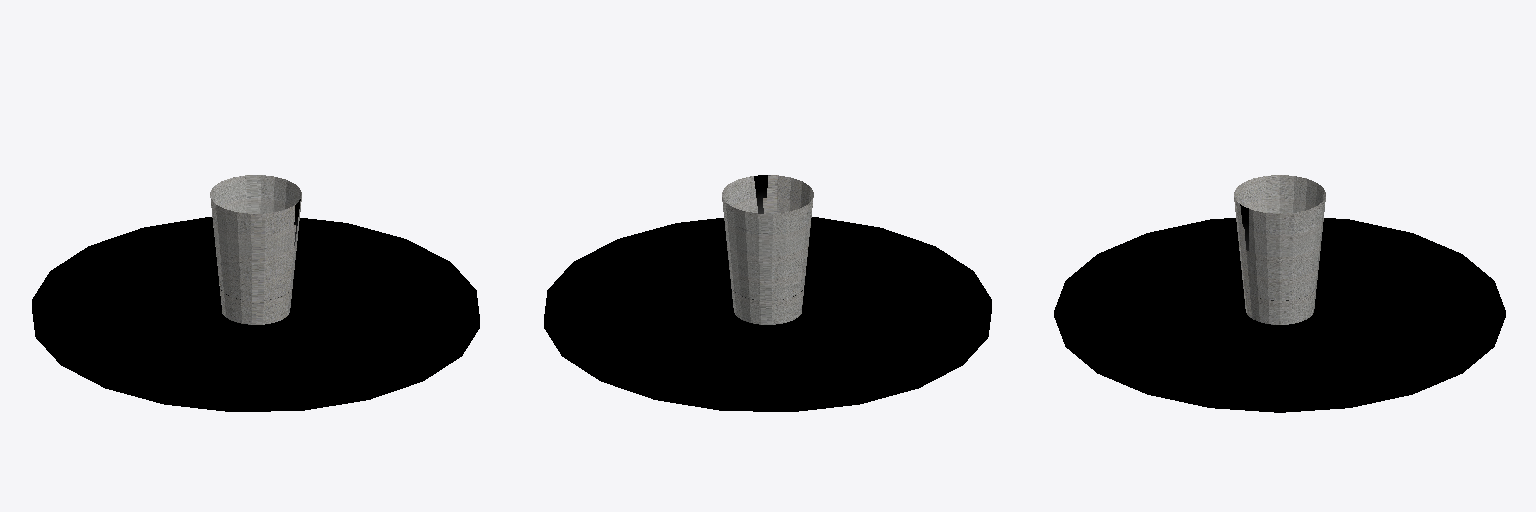
3 renders of one model, left to right at view 1: azimuth 30°, elevation 25°; view 2: azimuth 150°, elevation 25°; view 3: azimuth 270°, elevation 25°, orthographic.
Parts seen in each view (by area): view 1: pasted__pCylinder2 group; view 2: pasted__pCylinder2 group; view 3: pasted__pCylinder2 group.
Part boxes in pixels (x1,y1,x2,y2): pasted__pCylinder2 group: (32,175,479,411); pasted__pCylinder2 group: (544,175,991,411); pasted__pCylinder2 group: (1054,175,1505,412).
Bounding box in the file's own units: 24.29 × 7.32 × 24.29.
1 materials, 1 textured.